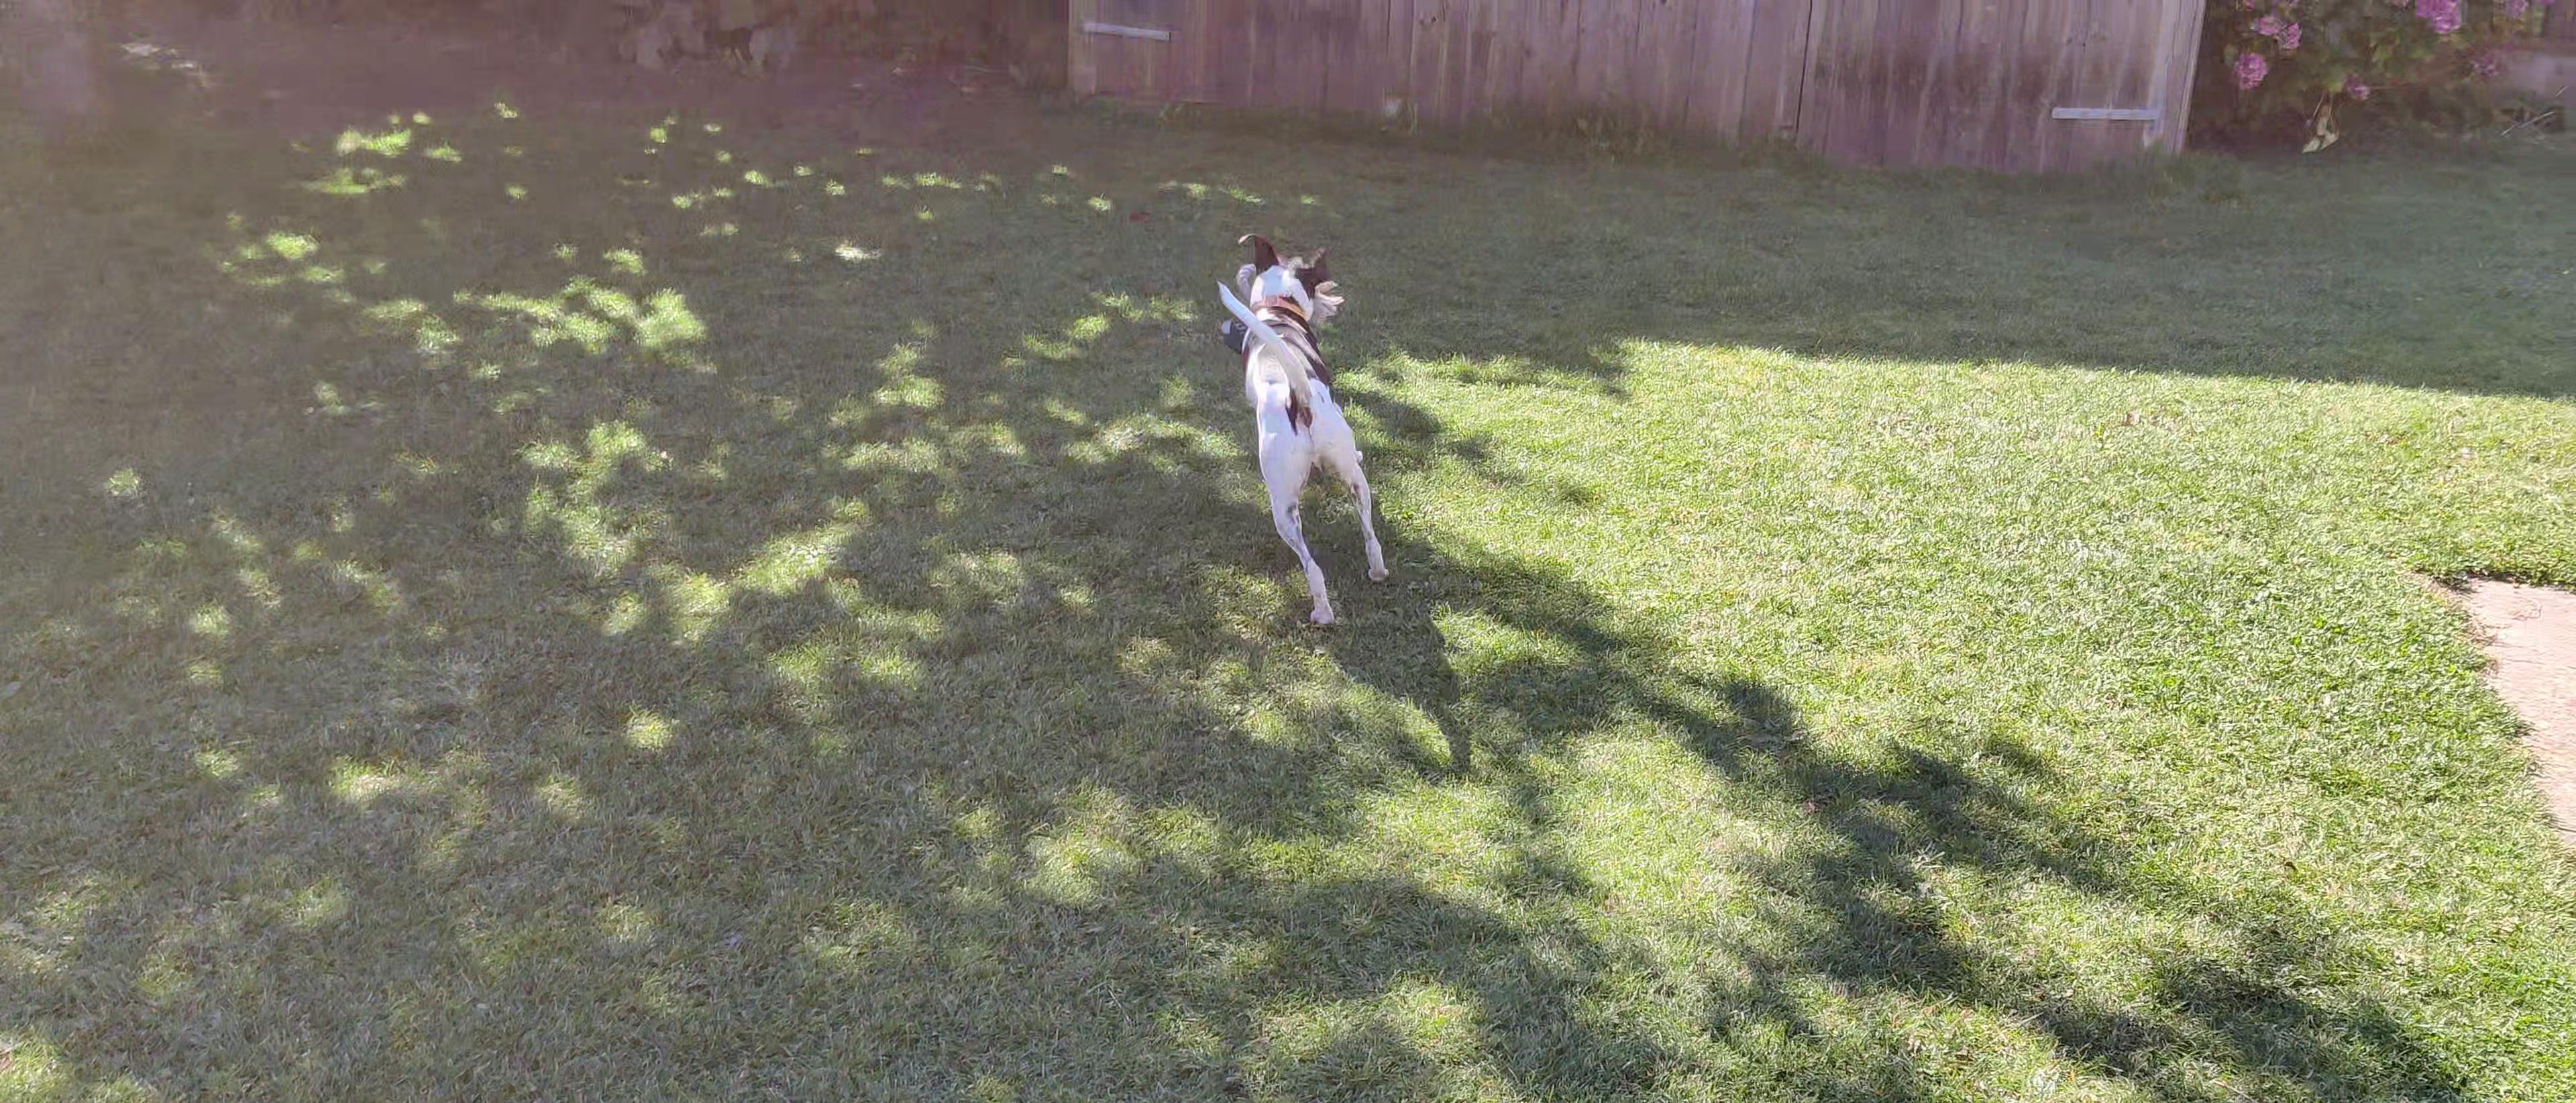Dog: (1183, 214, 1408, 648)
